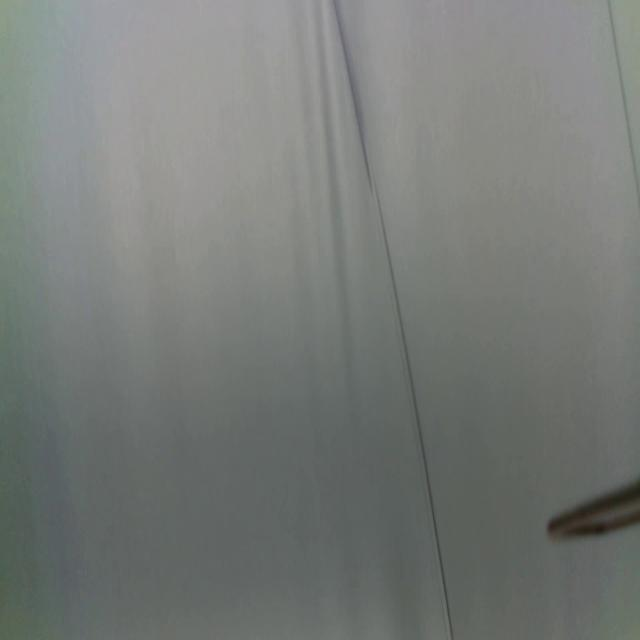crease: (334, 1, 455, 640), (607, 0, 640, 206)
